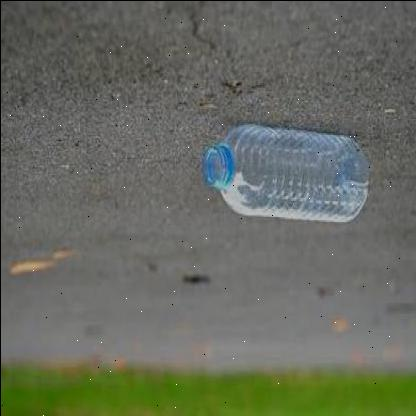Plastic Bottle: (201, 122, 368, 221)
